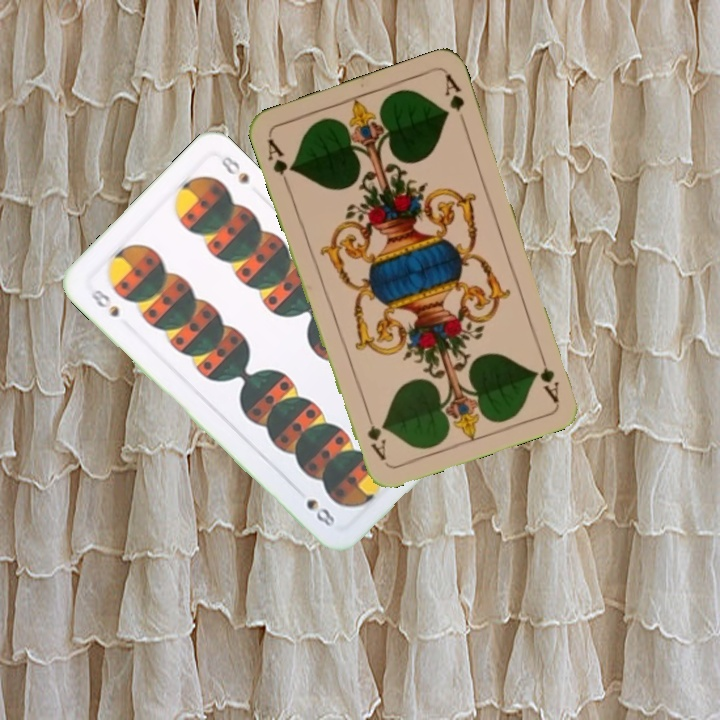GA: (263, 134, 297, 191), (535, 346, 562, 405)
S8: (86, 285, 122, 320)
